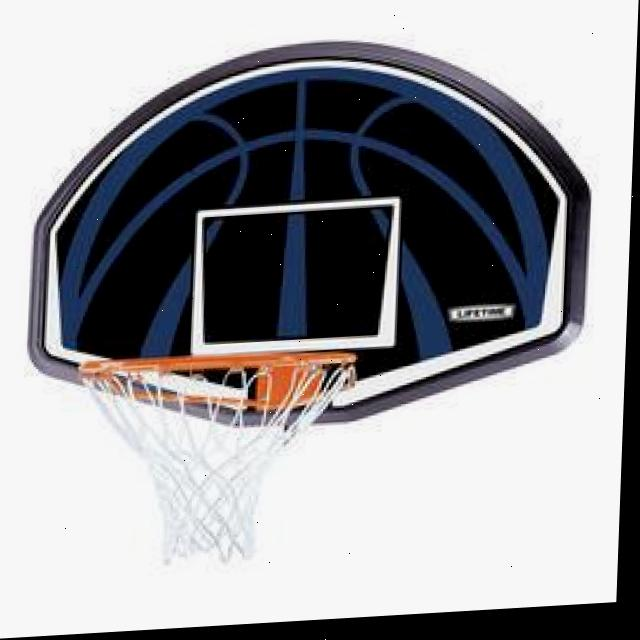hoop: (71, 345, 356, 573)
